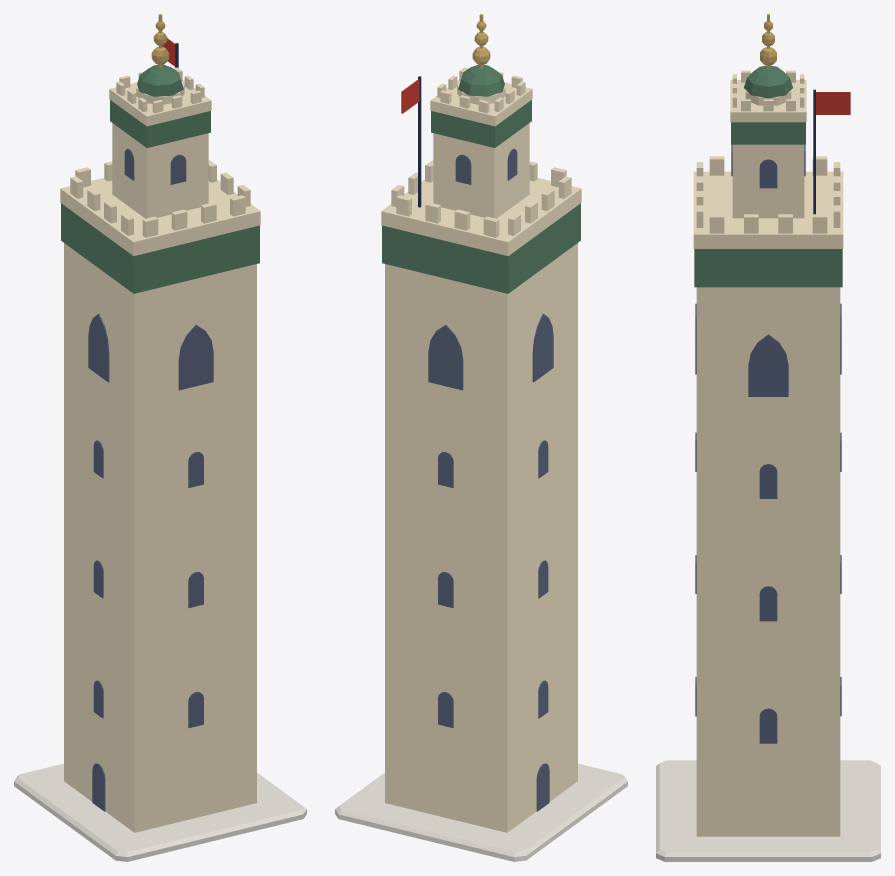
Rendered from marrakech.glb.
3 renders of one model, left to right at view 1: azimuth 30°, elevation 25°; view 2: azimuth 150°, elevation 25°; view 3: azimuth 270°, elevation 25°, orthographic.
Parts seen in each view (by area): view 1: model; view 2: model; view 3: model.
Boxes of the visible parts, x1,y1,x2,y2 form: model: (14, 14, 306, 861); model: (335, 14, 627, 861); model: (656, 14, 880, 861).
Size of the model in its own units: 20 by 78.5 by 20.
